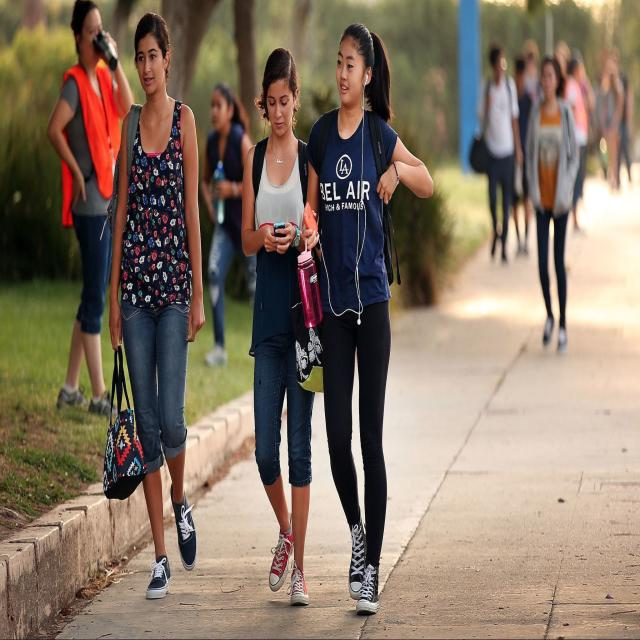body: (294, 19, 437, 618), (98, 6, 208, 603), (240, 46, 322, 610), (42, 0, 137, 425), (518, 29, 638, 253), (522, 51, 584, 357), (200, 80, 257, 370), (478, 41, 524, 264), (510, 56, 533, 260)
